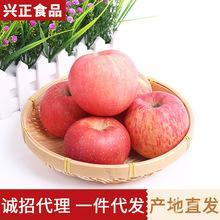apple: (67, 50, 142, 117), (123, 87, 189, 158), (60, 115, 131, 164), (40, 80, 89, 138)
